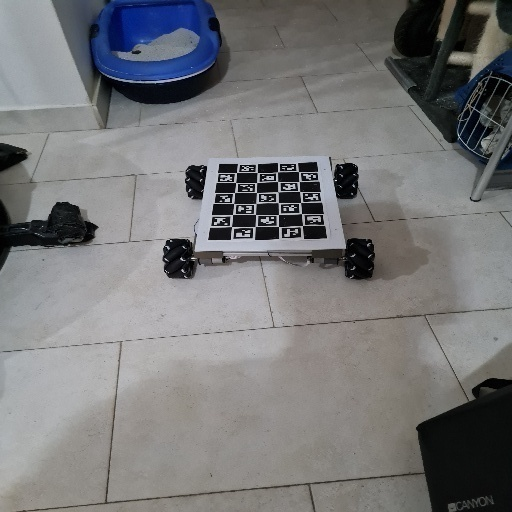Omniwheel: (164, 155, 377, 290)
